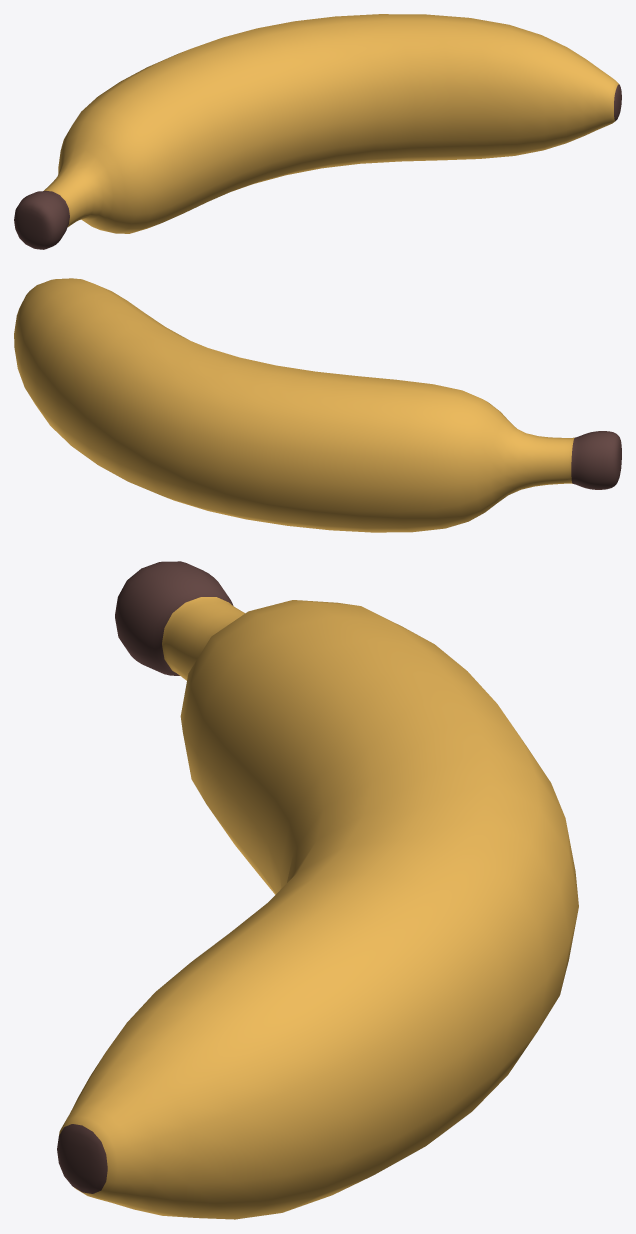
Rendered from Banane.fbx.
3 views of the same model, one above another, from view 1: azimuth 30°, elevation 25°; view 2: azimuth 150°, elevation 25°; view 3: azimuth 270°, elevation 25° (orthographic). The views are drawn at different scales.
Visible parts, largest first — view 1: Banane; view 2: Banane; view 3: Banane.
Part boxes in pixels (x1,y1,x2,y2): Banane: (14,14,621,249); Banane: (14,278,621,532); Banane: (57,561,578,1219).
Bounding box in the file's own units: 269 × 59.14 × 104.
